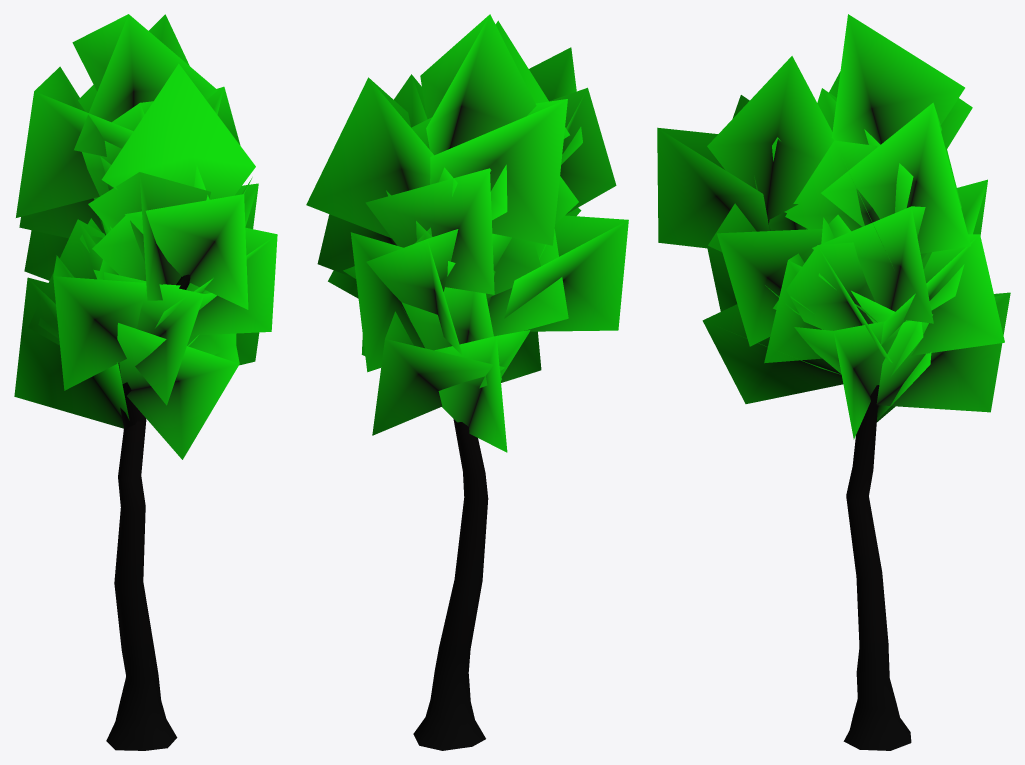
File: birch_3.fbx
The picture shows the model from 3 angles, left to right: view 1: azimuth 30°, elevation 25°; view 2: azimuth 150°, elevation 25°; view 3: azimuth 270°, elevation 25°; orthographic projection. The views are drawn at different scales.
Visible parts, largest first — view 1: birch_3; view 2: birch_3; view 3: birch_3.
Boxes of the visible parts, x1,y1,x2,y2 form: birch_3: (14,14,277,750); birch_3: (306,14,628,750); birch_3: (657,14,1010,750).
Bounding box in the file's own units: 2.66 × 7.43 × 3.35.
